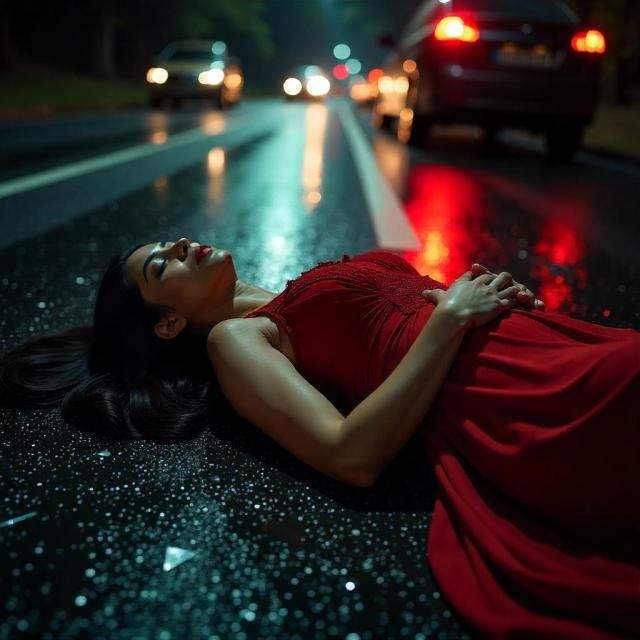injury: (92, 238, 272, 360)
no injury: (0, 238, 639, 639)
